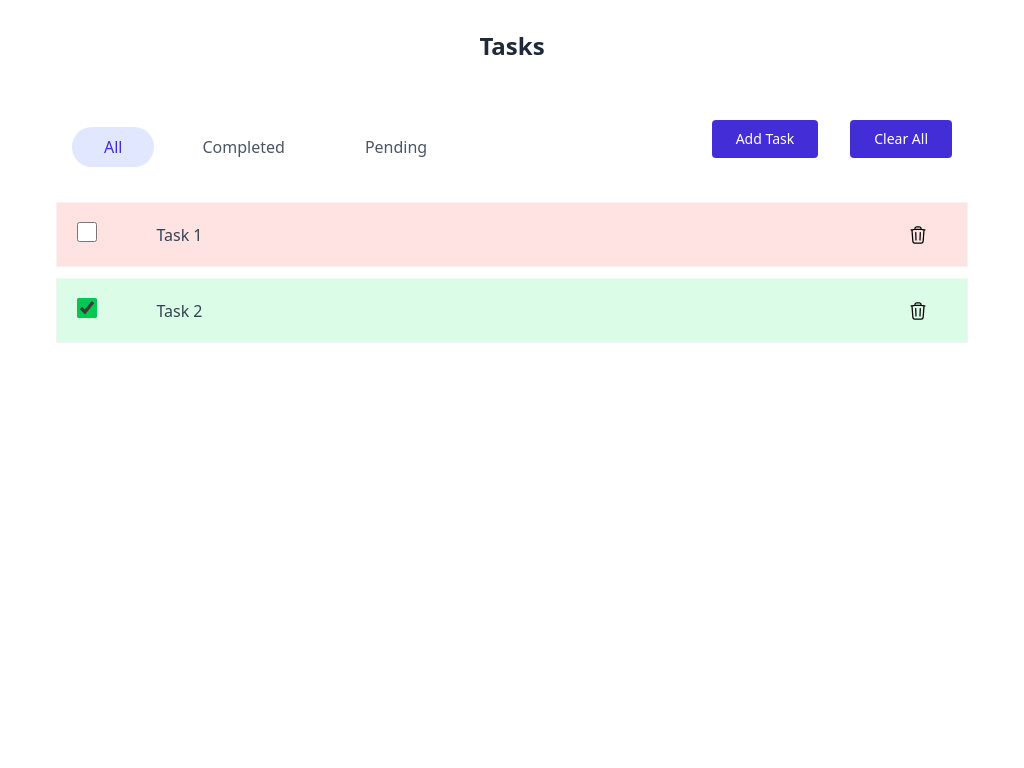
it: TaskList Component › clears all tasks
The image size is (1024, 768).
Click the button "Clear All".
click(901, 139)  # box [850, 120, 952, 158]
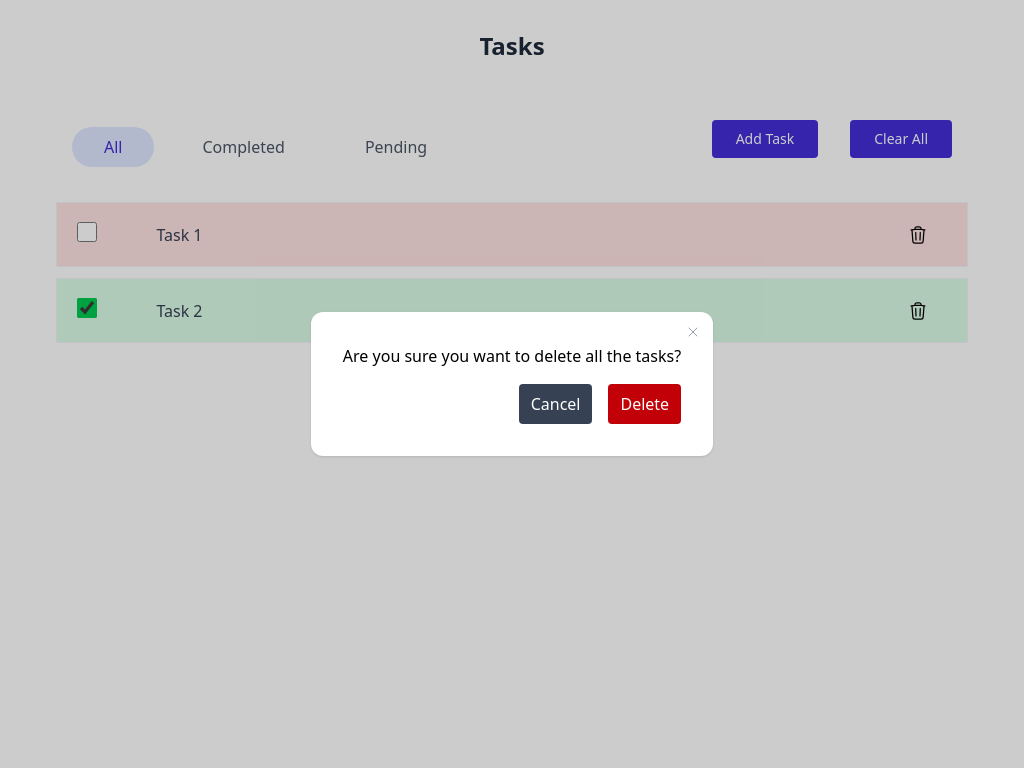
Expected: the text "Are you sure you want to delete all the tasks?" is shown, [343, 344, 681, 368]
